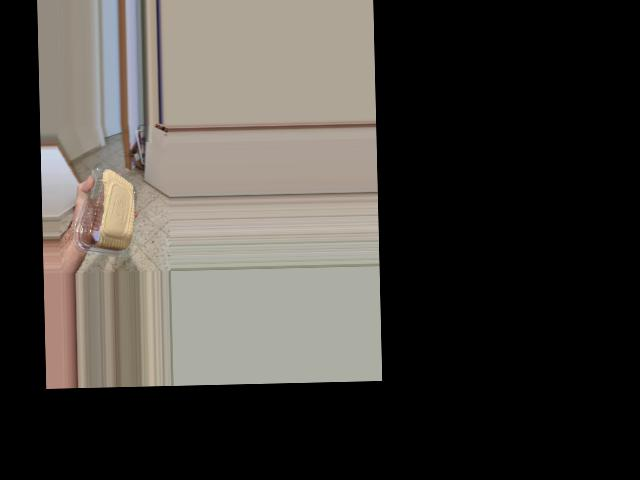cheese: (89, 186, 128, 261)
